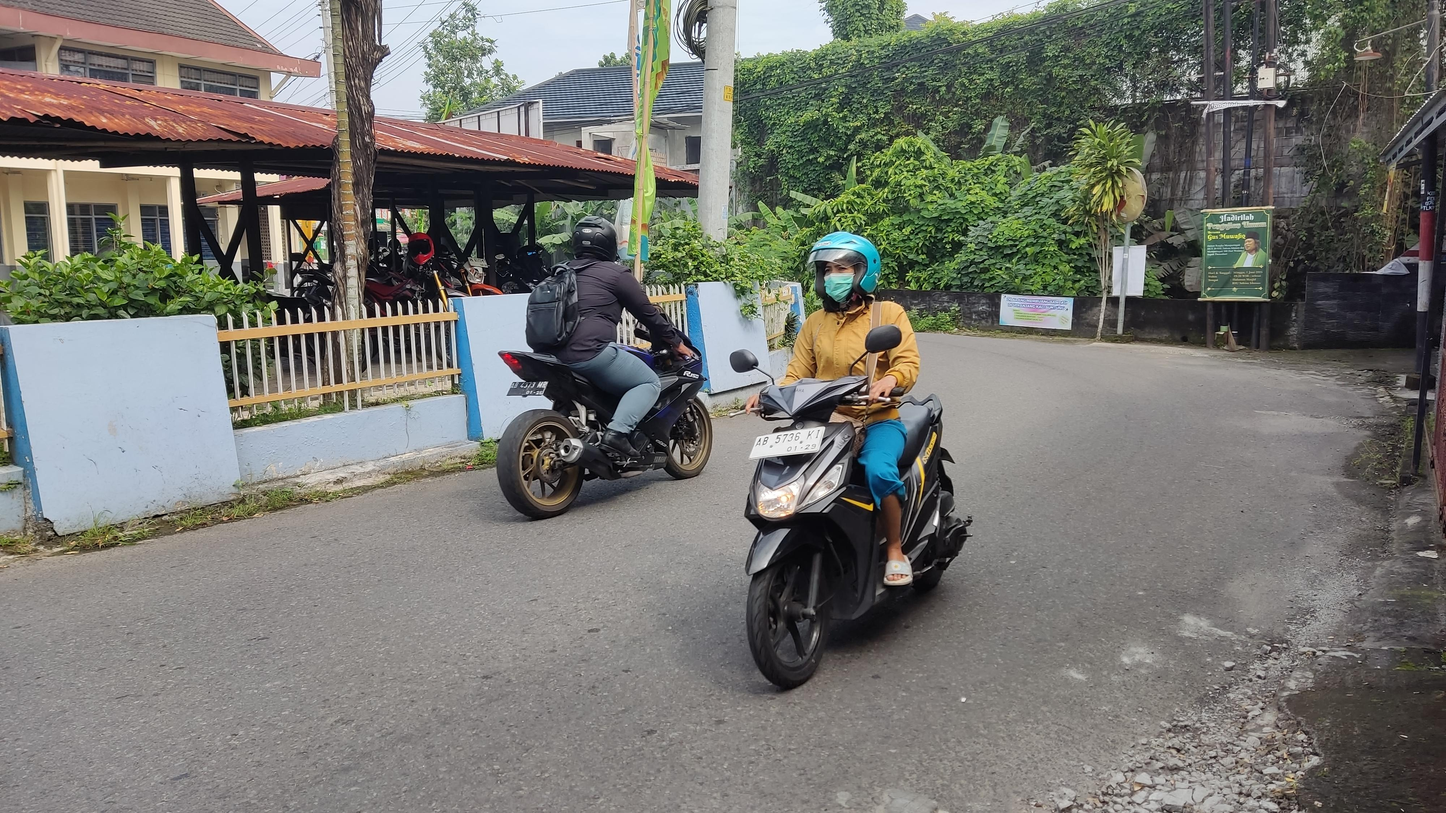helm: (806, 232, 885, 315)
riding: (728, 229, 976, 689)
